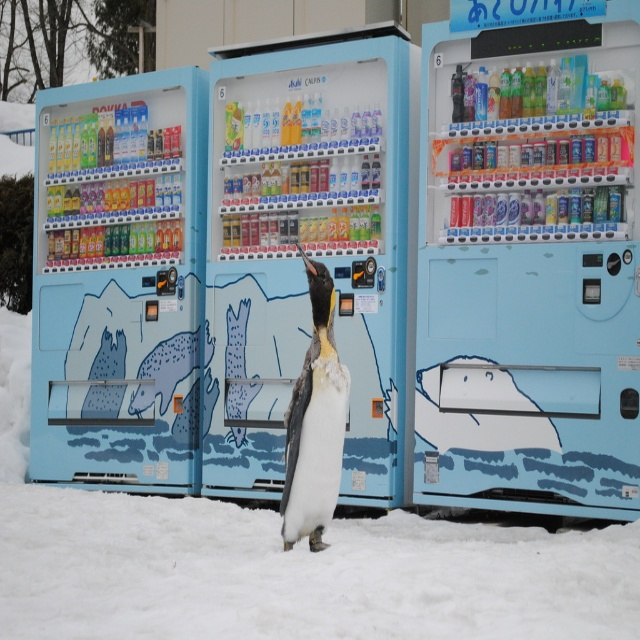Penguin: (274, 272, 351, 557)
